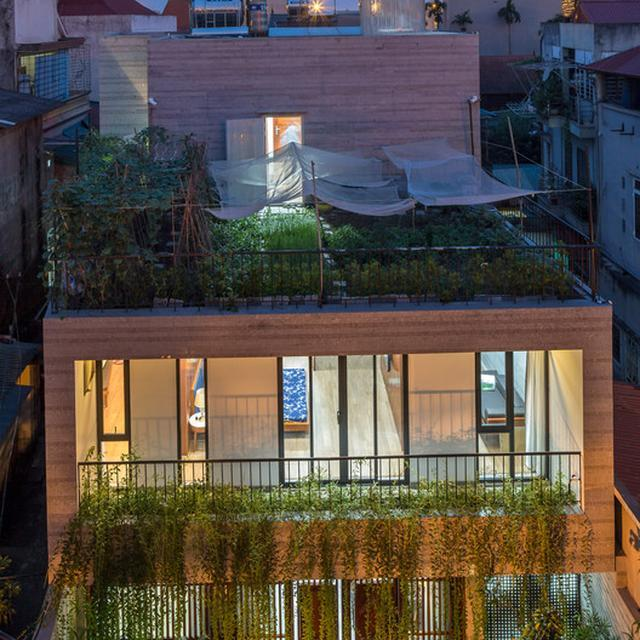building: (39, 32, 620, 640)
